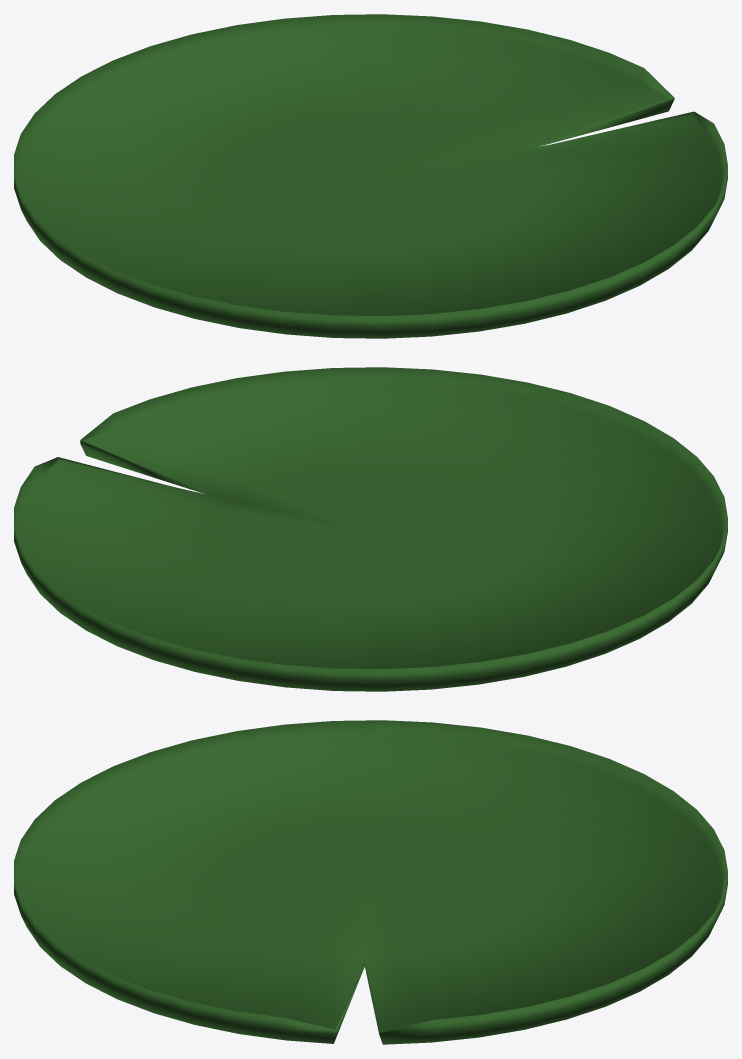
The model's file is LilyPad2.glb.
3 renders of one model, top to bottom at view 1: azimuth 30°, elevation 25°; view 2: azimuth 150°, elevation 25°; view 3: azimuth 270°, elevation 25°, orthographic.
Visible parts, largest first — view 1: Cylinder; view 2: Cylinder; view 3: Cylinder.
Boxes of the visible parts, x1,y1,x2,y2 form: Cylinder: [14, 14, 727, 338]; Cylinder: [14, 367, 727, 691]; Cylinder: [14, 720, 727, 1044].
Bounding box in the file's own units: 0.5046 × 0.0195 × 0.5052.
